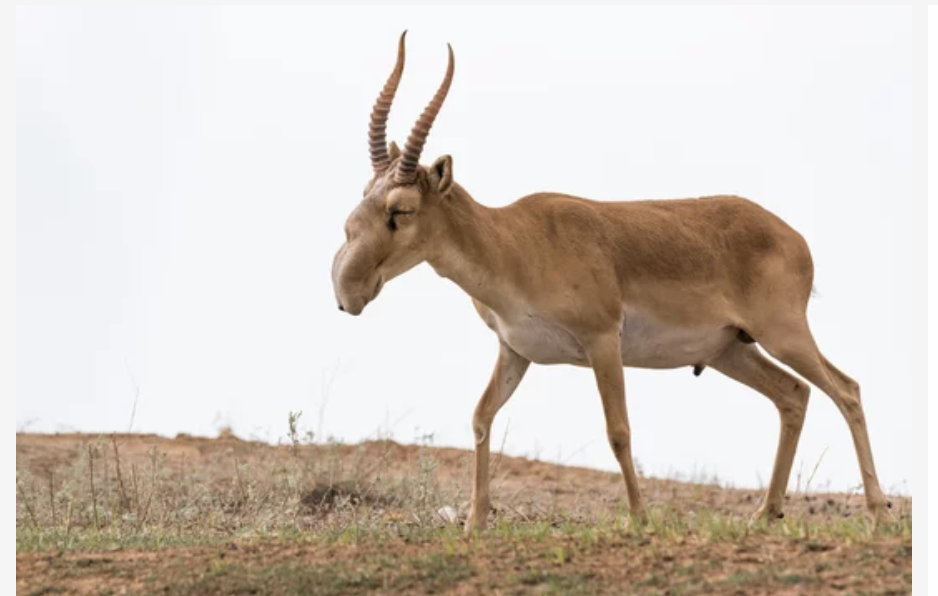saiga: (330, 27, 894, 544)
